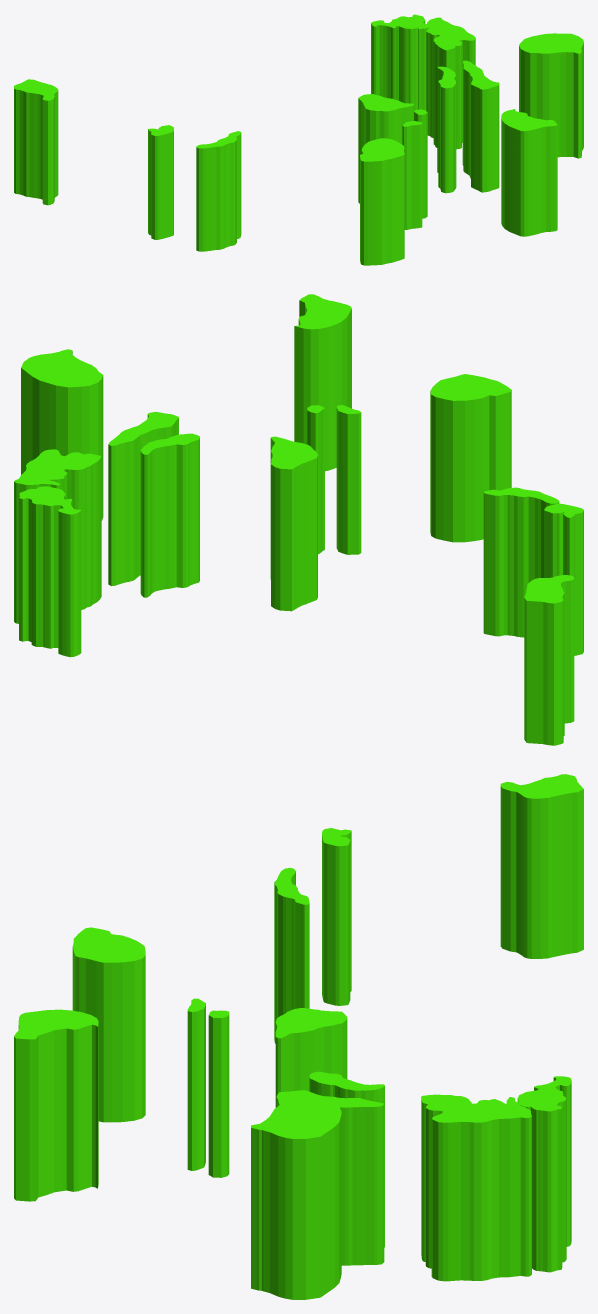
Rendered from wood_area01.dae.
3 renders of one model, top to bottom at view 1: azimuth 30°, elevation 25°; view 2: azimuth 150°, elevation 25°; view 3: azimuth 270°, elevation 25°, orthographic. The views are drawn at different scales.
Parts seen in each view (by area): view 1: Object_013, Object_016, Object_015, Object_005, Object_002, Object_008, Object_007, Object_006, Object_003, Object_009, Object_010, Object_012 (+1 smaller); view 2: Object_015, Object_006, Object_009, Object_016, Object_005, Object_002, Object_010, Object_013, Object_007, Object_008, Object_012, Object_003 (+1 smaller); view 3: Object_007, Object_016, Object_013, Object_005, Object_015, Object_008, Object_006, Object_010, Object_003, Object_002, Object_011, Object_012 (+1 smaller).
Boxes of the visible parts, left/top/right/bottom form: Object_013: left=501, top=109, right=557, bottom=236; Object_016: left=519, top=33, right=583, bottom=158; Object_015: left=360, top=138, right=404, bottom=265; Object_005: left=14, top=79, right=58, bottom=205; Object_002: left=196, top=131, right=241, bottom=251; Object_008: left=462, top=60, right=499, bottom=192; Object_007: left=418, top=17, right=475, bottom=149; Object_006: left=371, top=14, right=425, bottom=110; Object_003: left=148, top=125, right=173, bottom=239; Object_009: left=437, top=66, right=456, bottom=193; Object_010: left=358, top=94, right=414, bottom=203; Object_012: left=402, top=121, right=422, bottom=229; Object_015: left=430, top=374, right=511, bottom=542; Object_006: left=19, top=486, right=81, bottom=657; Object_009: left=140, top=433, right=199, bottom=597; Object_016: left=21, top=349, right=103, bottom=520; Object_005: left=524, top=575, right=574, bottom=745; Object_002: left=483, top=487, right=559, bottom=637; Object_010: left=270, top=436, right=317, bottom=611; Object_013: left=294, top=294, right=351, bottom=471; Object_007: left=14, top=449, right=101, bottom=623; Object_008: left=108, top=411, right=178, bottom=586; Object_012: left=336, top=405, right=361, bottom=554; Object_003: left=544, top=503, right=583, bottom=655; Object_007: left=421, top=1094, right=531, bottom=1281; Object_016: left=251, top=1096, right=341, bottom=1299; Object_013: left=14, top=1009, right=98, bottom=1201; Object_005: left=500, top=774, right=583, bottom=958; Object_015: left=72, top=927, right=145, bottom=1122; Object_008: left=276, top=1090, right=384, bottom=1265; Object_006: left=517, top=1076, right=571, bottom=1272; Object_010: left=275, top=1008, right=347, bottom=1107; Object_003: left=322, top=828, right=351, bottom=1005; Object_002: left=274, top=868, right=309, bottom=1043; Object_011: left=208, top=1010, right=229, bottom=1177; Object_012: left=187, top=998, right=205, bottom=1170.
Bounding box in the file's own units: 19.55 × 13.08 × 5.26.
